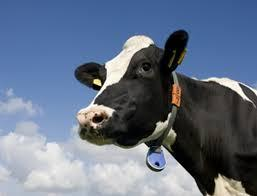cow: (75, 29, 257, 196)
